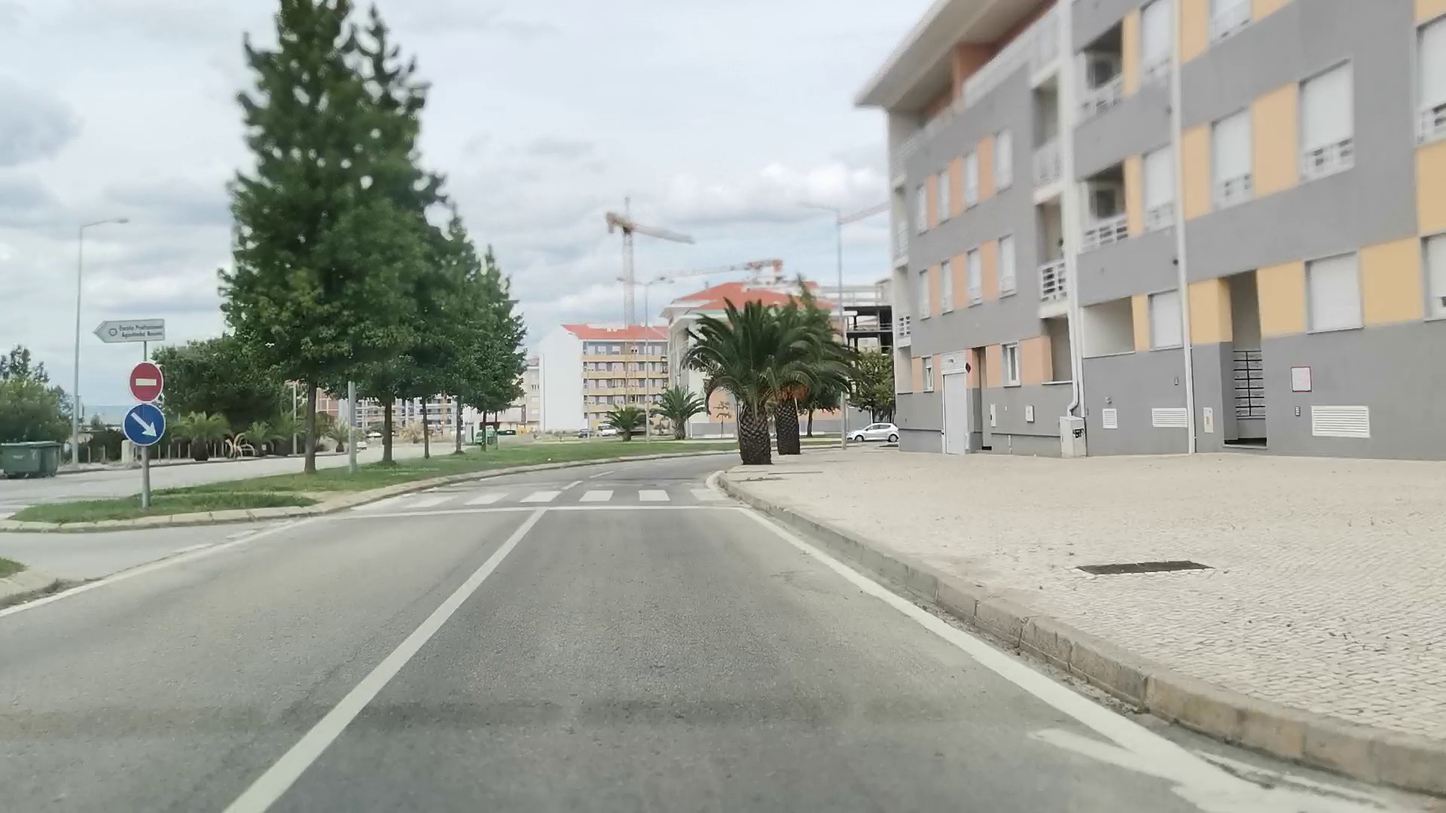Stairs: (346, 486, 737, 508)
